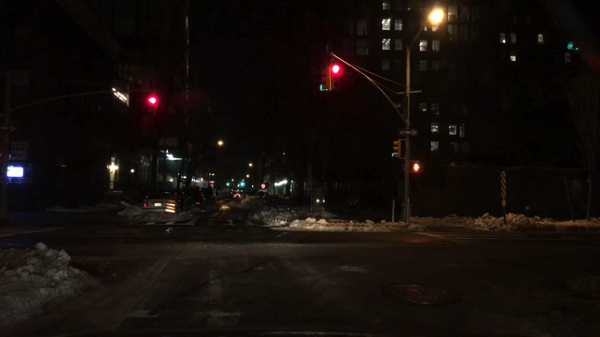car: (165, 188, 192, 211), (143, 192, 173, 211), (192, 187, 209, 208), (285, 199, 308, 213), (204, 188, 217, 201), (265, 194, 279, 205), (275, 198, 287, 209), (246, 195, 261, 200), (234, 191, 242, 200), (242, 191, 256, 194), (218, 192, 223, 200), (223, 192, 228, 200)
traffic light: (391, 140, 404, 158), (320, 67, 329, 90), (331, 63, 339, 88), (410, 160, 422, 172), (150, 96, 155, 115)
traffic sign: (398, 129, 418, 136), (0, 125, 19, 132), (209, 184, 214, 188), (261, 184, 265, 188), (211, 180, 215, 184)
